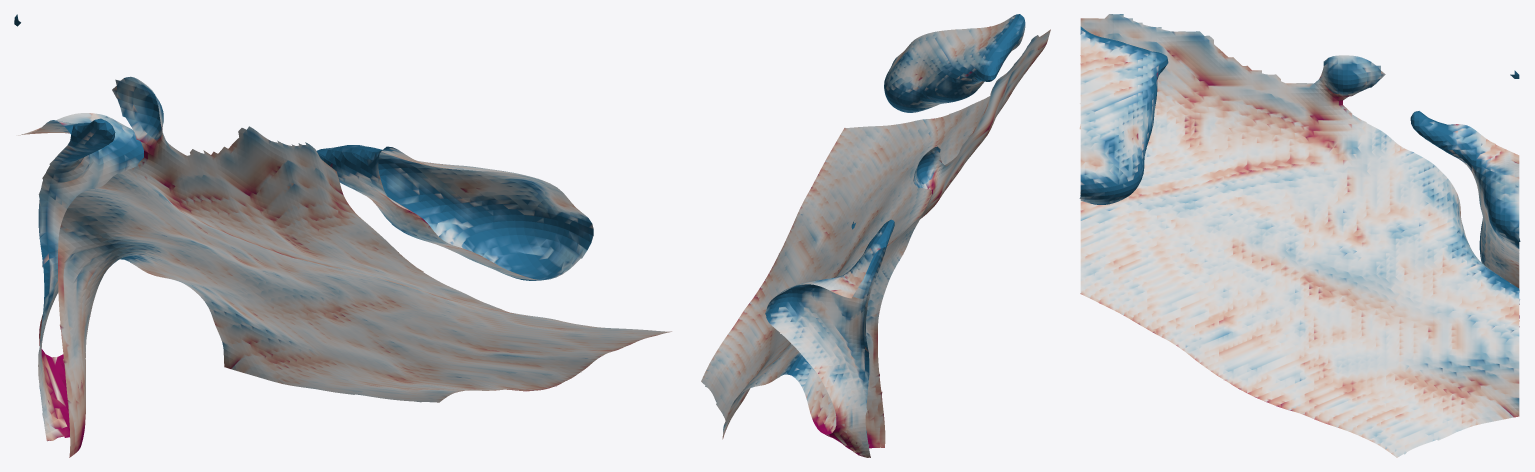
The model's file is crop1118_curvature.glb.
The picture shows the model from 3 angles, left to right: view 1: azimuth 30°, elevation 25°; view 2: azimuth 150°, elevation 25°; view 3: azimuth 270°, elevation 25°; orthographic projection. The views are drawn at different scales.
Parts seen in each view (by area): view 1: world; view 2: world; view 3: world.
Boxes of the visible parts, x1=… form: world: x1=14, y1=14, x2=671, y2=457; world: x1=701, y1=14, x2=1050, y2=457; world: x1=1079, y1=14, x2=1520, y2=457.
Size of the model in its own units: 888 by 1251 by 1480.
